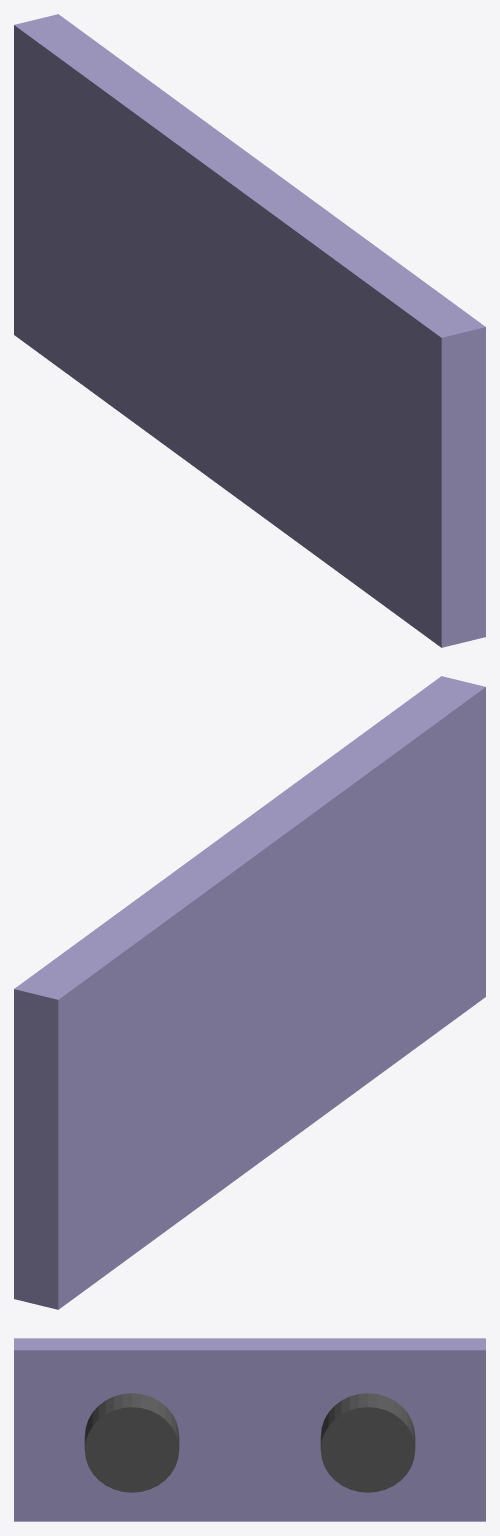
The model's file is ping_sonar.dae.
3 renders of one model, top to bottom at view 1: azimuth 30°, elevation 25°; view 2: azimuth 150°, elevation 25°; view 3: azimuth 270°, elevation 25°, orthographic. The views are drawn at different scales.
Visible parts, largest first — view 1: Cube; view 2: Cube; view 3: Cube, Cylinder, Cylinder_001.
Part boxes in pixels (x1,y1,x2,y2): Cube: (14, 14, 485, 647); Cube: (14, 676, 485, 1309); Cube: (14, 1338, 485, 1521); Cylinder: (320, 1393, 415, 1492); Cylinder_001: (84, 1393, 179, 1492).
Size of the model in its own units: 0.0065 by 0.05 by 0.02.
